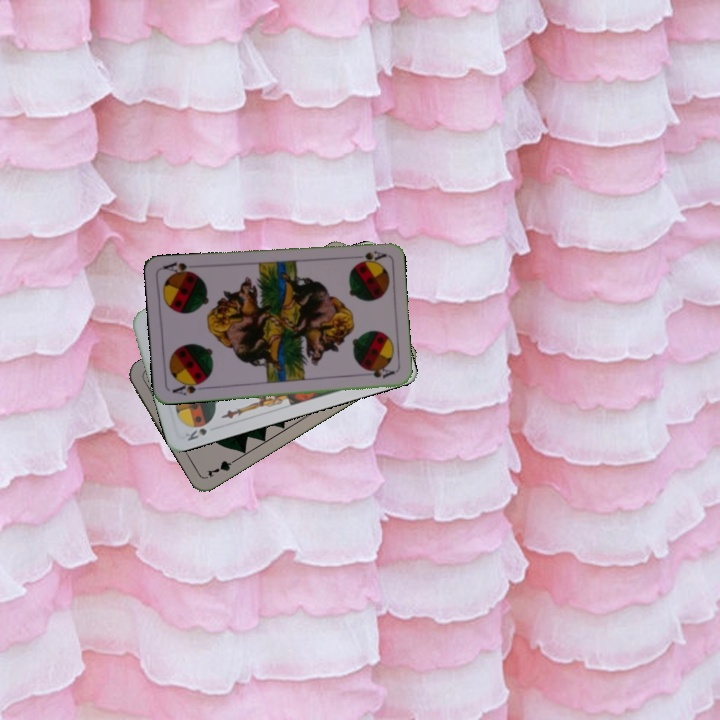G7: (203, 454, 241, 480)
SA: (168, 377, 208, 398), (347, 247, 388, 265)
SK: (181, 424, 210, 443)
